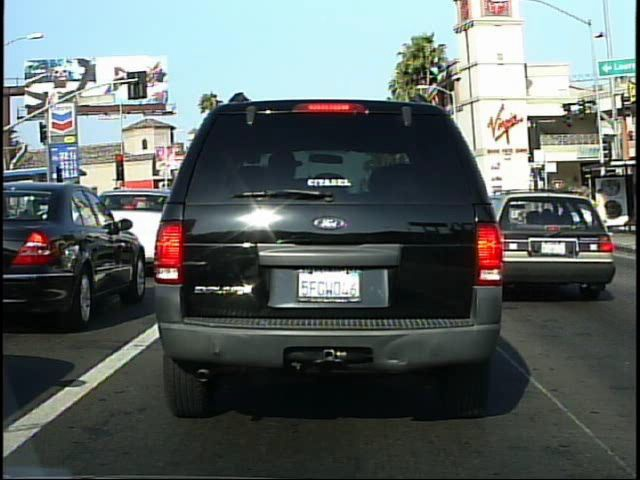person: (590, 184, 618, 241), (566, 183, 587, 239)
